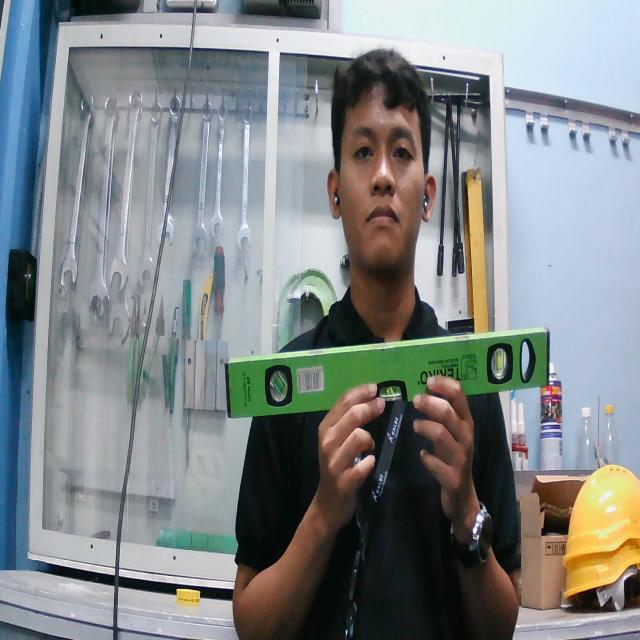water_pass: (220, 321, 560, 425)
